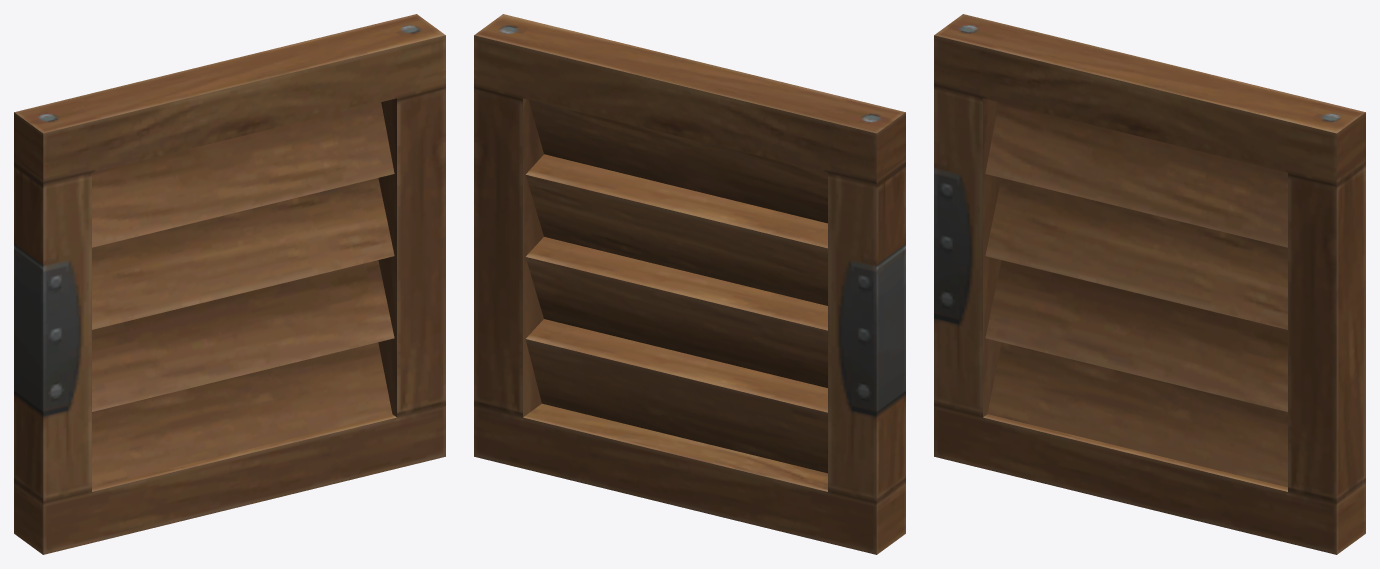
File: F19_DOOR_T.obj
3 renders of one model, left to right at view 1: azimuth 30°, elevation 25°; view 2: azimuth 150°, elevation 25°; view 3: azimuth 330°, elevation 25°, orthographic.
Visible parts, largest first — view 1: F19_DOOR_T_ncl1_1; view 2: F19_DOOR_T_ncl1_1; view 3: F19_DOOR_T_ncl1_1.
Boxes of the visible parts, x1,y1,x2,y2 form: F19_DOOR_T_ncl1_1: [14, 14, 445, 554]; F19_DOOR_T_ncl1_1: [474, 14, 905, 554]; F19_DOOR_T_ncl1_1: [934, 14, 1365, 554].
Size of the model in its own units: 1 by 1 by 0.1251.
Materials: 1 (1 with a texture image).
